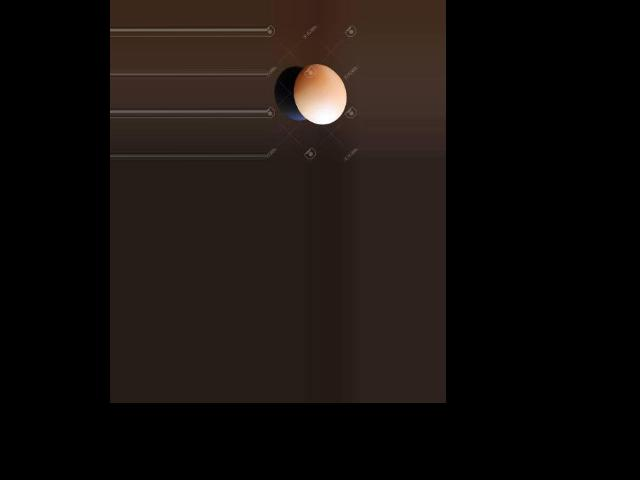egg: (292, 64, 346, 124)
